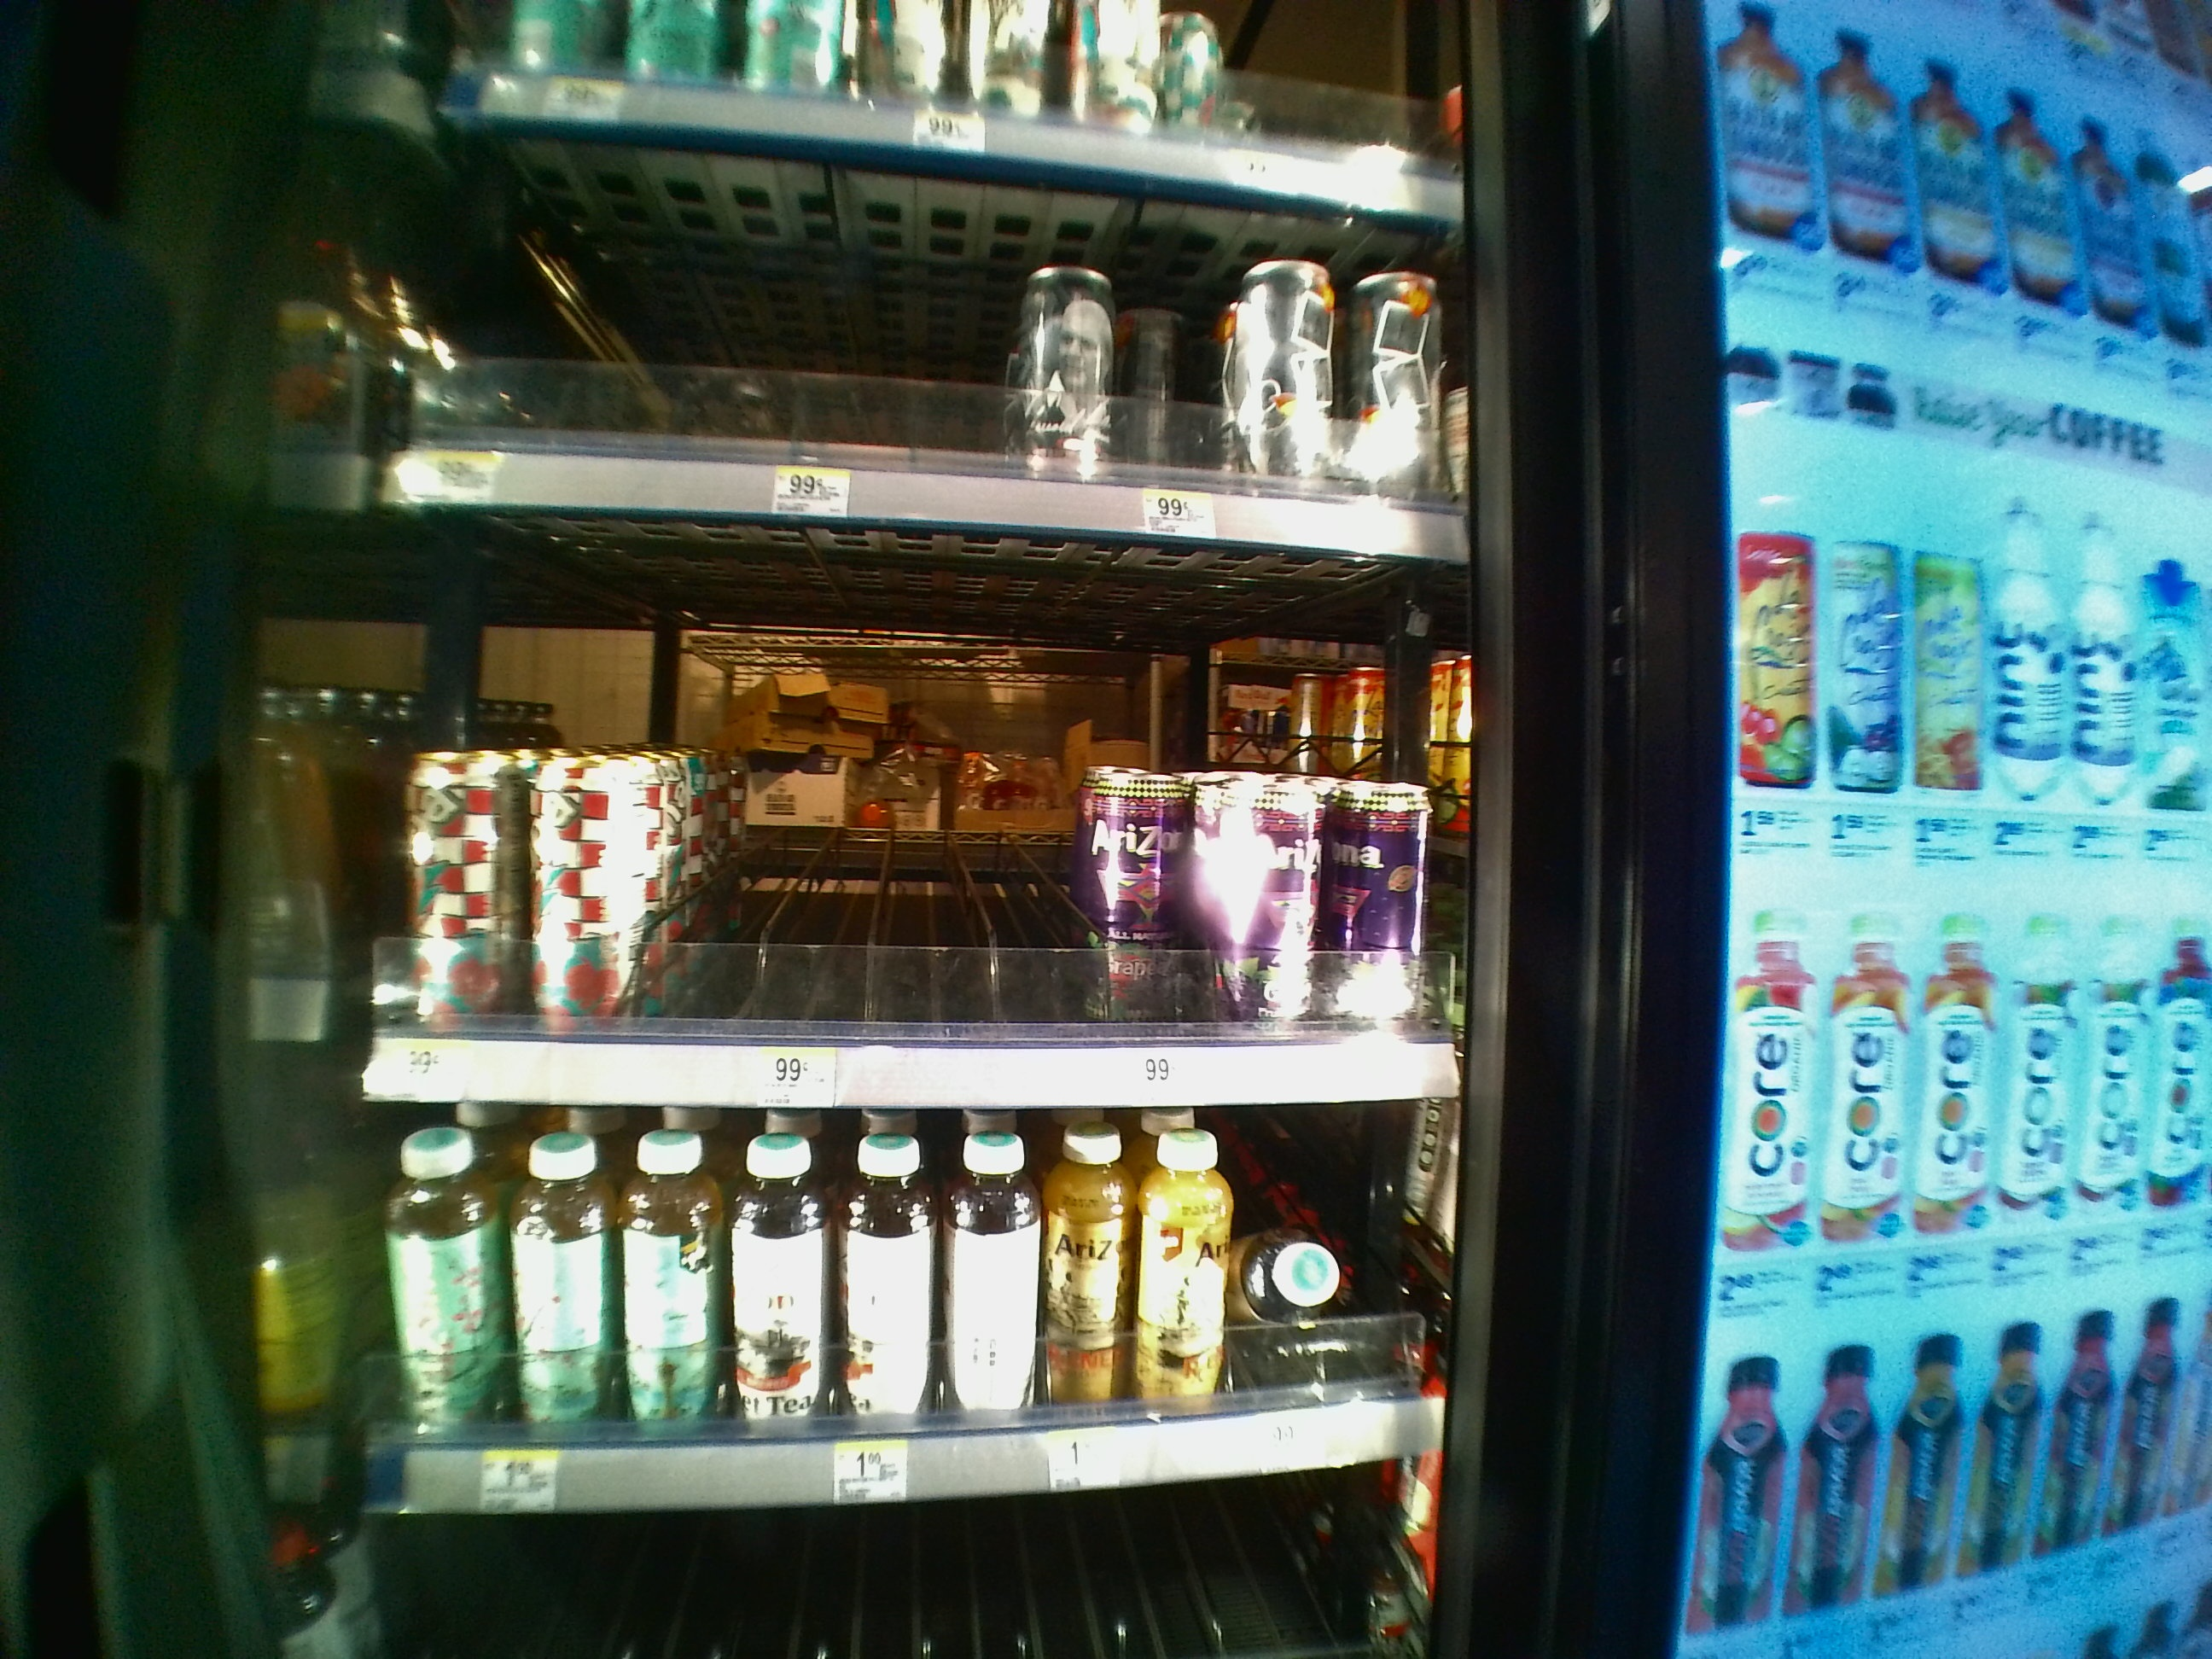shelf: (371, 512, 1468, 1100), (366, 1110, 1474, 1516)
